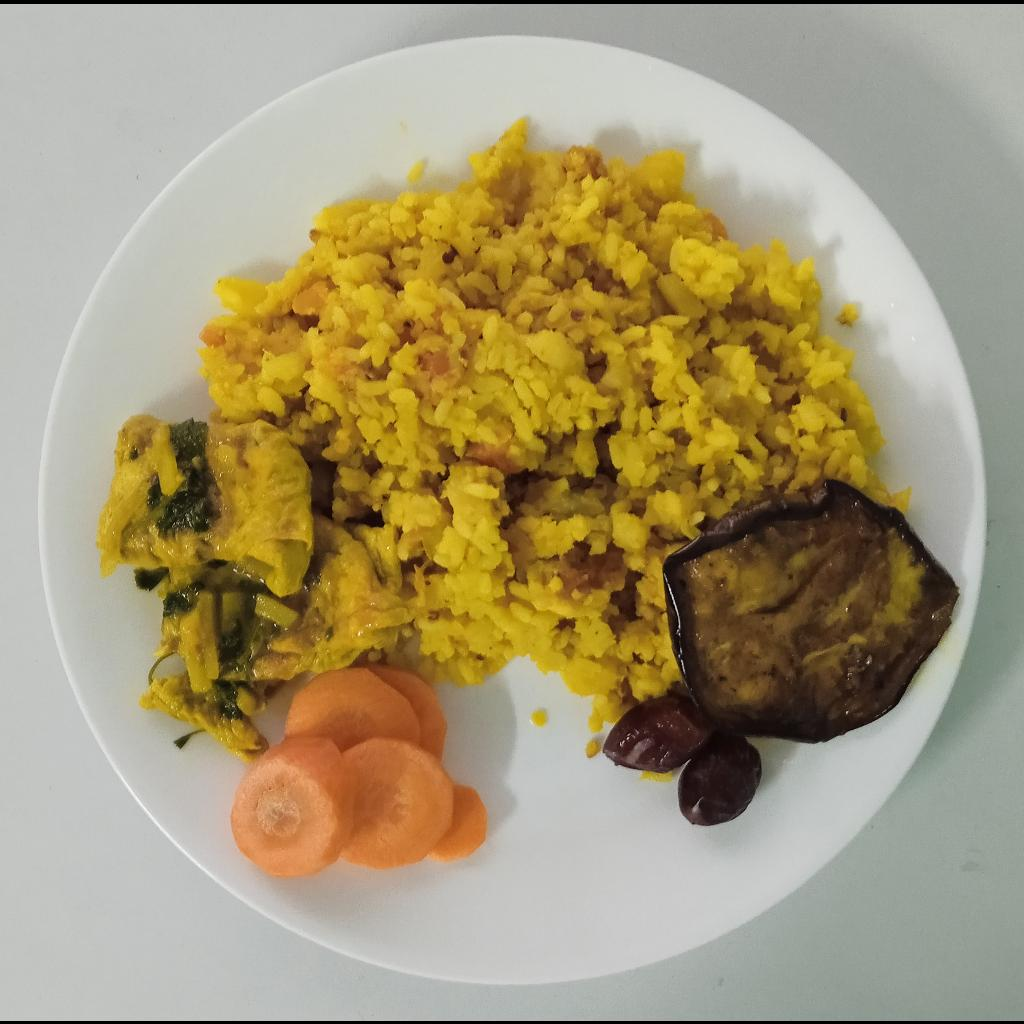begun-vaji: (663, 484, 959, 745)
carrot: (228, 664, 488, 878)
dates: (602, 697, 762, 825)
egg-poached: (97, 414, 410, 757)
khichuri: (201, 121, 918, 731)
